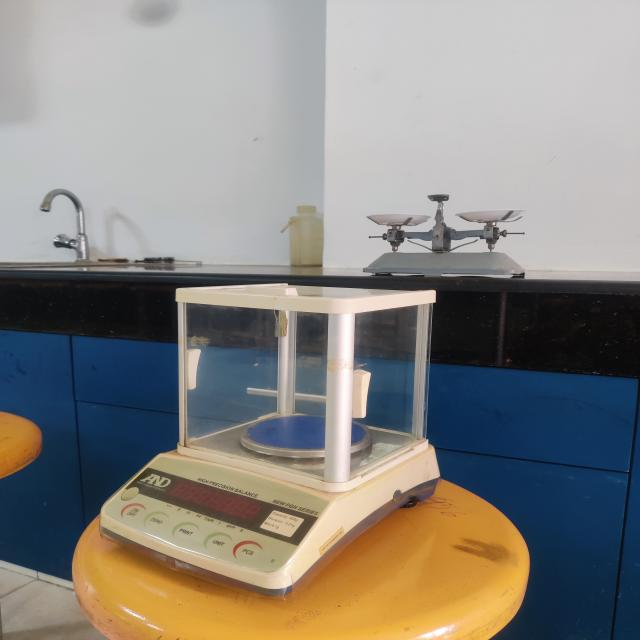Mechanical_Balance_Scale: (348, 180, 540, 284)
Precision_Weight_Scale: (51, 274, 461, 636)
